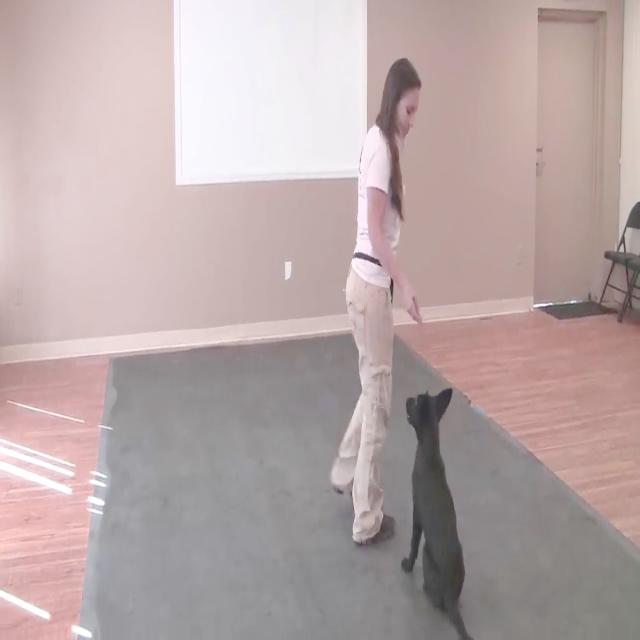Unleashed_Dog: (365, 292, 473, 640)
